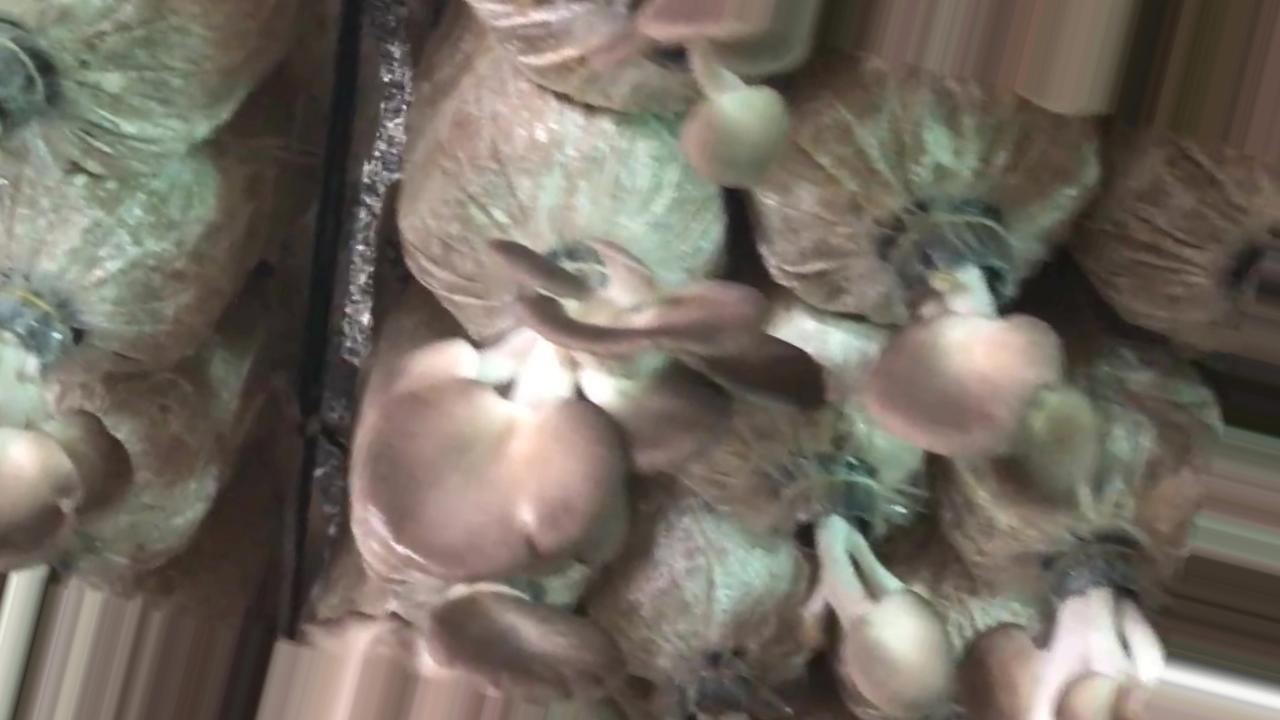nam: (352, 238, 835, 584), (720, 474, 955, 717), (861, 193, 1064, 459), (956, 531, 1195, 720), (636, 1, 809, 189), (1, 409, 134, 569), (438, 609, 627, 695)
